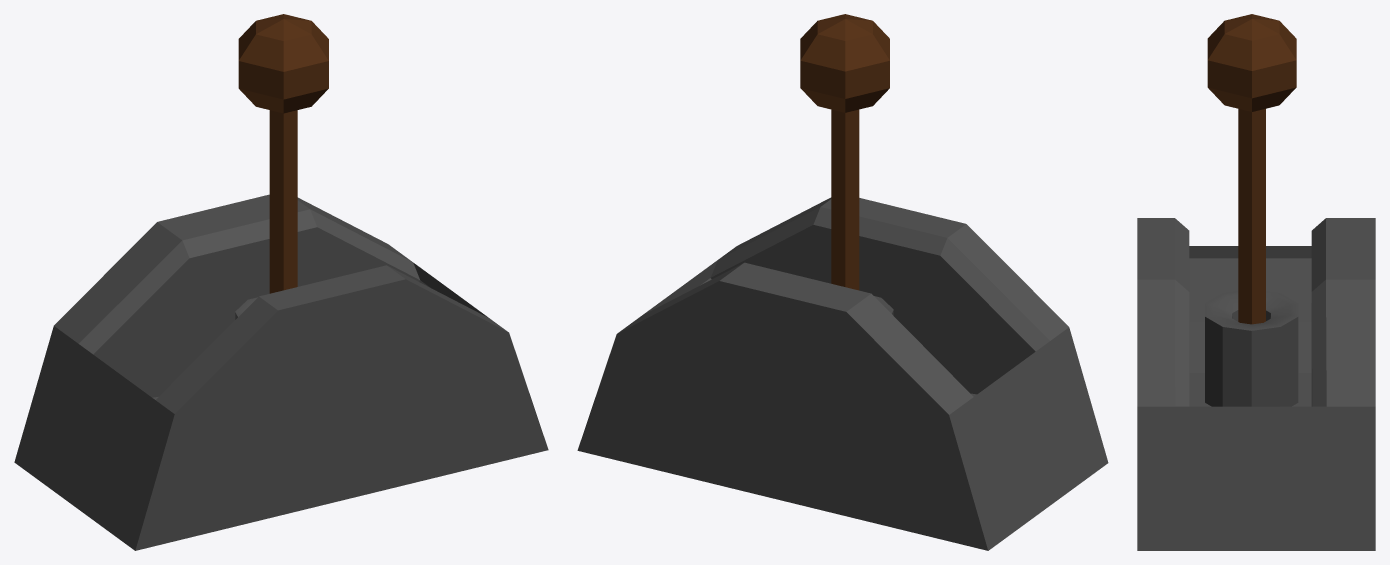
Rendered from Switch 1.fbx.
The picture shows the model from 3 angles, left to right: view 1: azimuth 30°, elevation 25°; view 2: azimuth 150°, elevation 25°; view 3: azimuth 270°, elevation 25°; orthographic projection.
Visible parts, largest first — view 1: Switch_1; view 2: Switch_1; view 3: Switch_1.
Boxes of the visible parts, <box> form: Switch_1: <box>14,14,548,550</box>; Switch_1: <box>577,14,1108,550</box>; Switch_1: <box>1137,14,1375,550</box>.
Bounding box in the file's own units: 144 × 146 × 72.8.
Materials: 1 (1 with a texture image).
